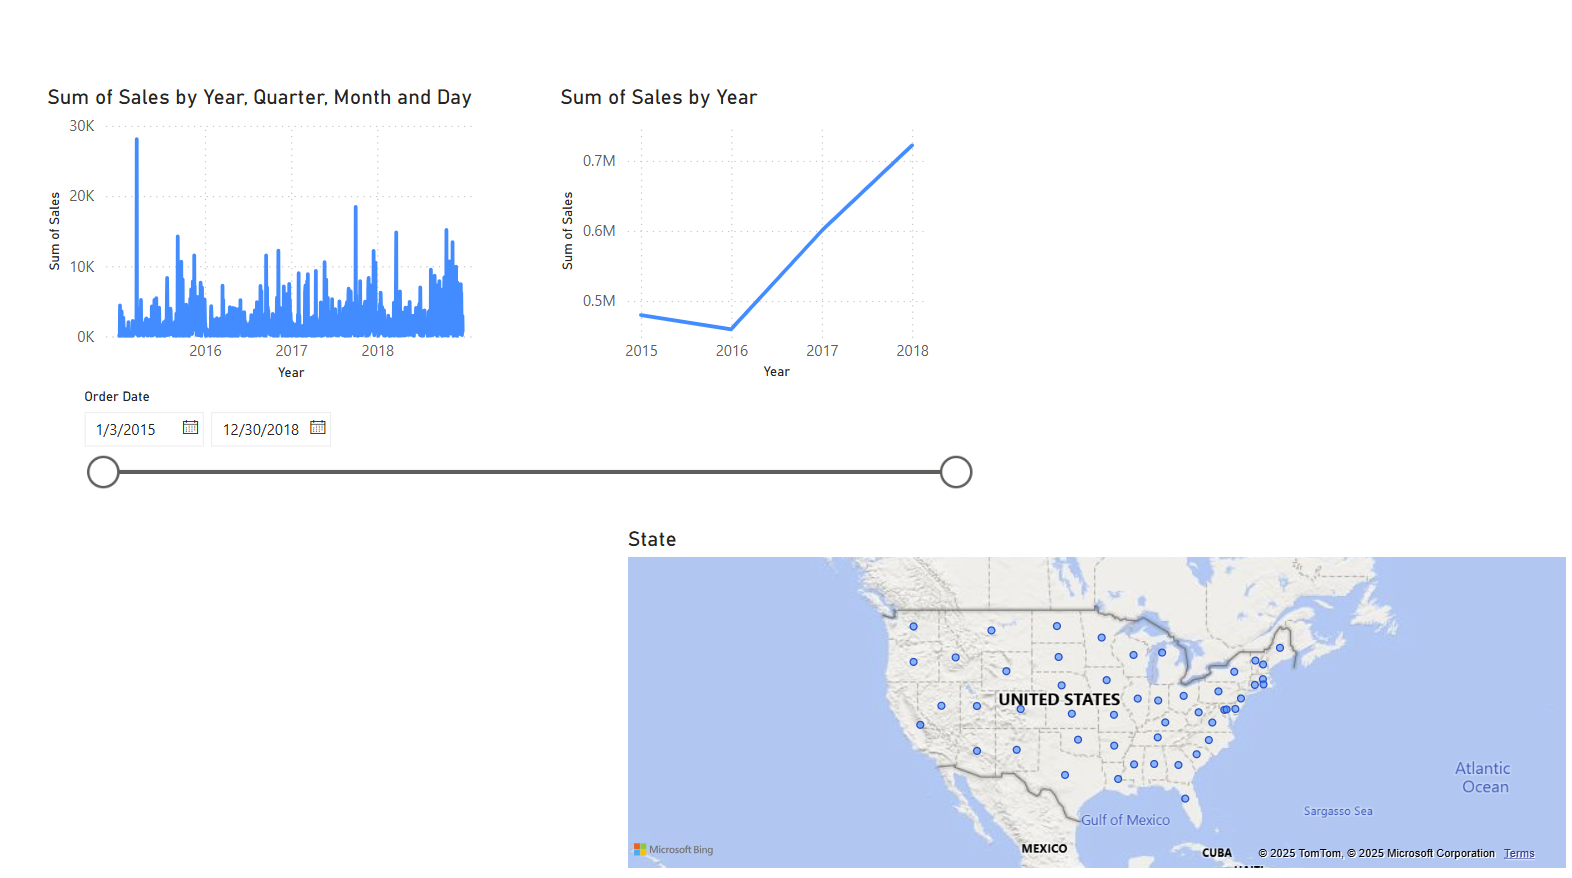

The page's visual inventory and layout, read from the dashboard file:
{"tool":"powerbi","page":{"name":"Page 1","canvas":[1280,720],"ordinal":0},"visuals":[{"type":"lineChart","fields":{"Y":["Sum(sales_dashboard_data.Sales)"],"Category":["sales_dashboard_data.Order Date.Variation.Date Hierarchy.Year","sales_dashboard_data.Order Date.Variation.Date Hierarchy.Quarter","sales_dashboard_data.Order Date.Variation.Date Hierarchy.Month","sales_dashboard_data.Order Date.Variation.Date Hierarchy.Day"]},"box":[45.4,80,353.4,240],"z":0},{"type":"lineChart","fields":{"Category":["sales_dashboard_data.Order Date.Variation.Date Hierarchy.Year","sales_dashboard_data.Order Date.Variation.Date Hierarchy.Quarter","sales_dashboard_data.Order Date.Variation.Date Hierarchy.Month","sales_dashboard_data.Order Date.Variation.Date Hierarchy.Day"],"Y":["Sum(sales_dashboard_data.Sales)"]},"box":[453.7,80,303.3,240],"z":1},{"type":"slicer","fields":{"Values":["sales_dashboard_data.Order Date"]},"box":[66.9,317.6,728.4,86],"z":2},{"type":"map","fields":{"Category":["sales_dashboard_data.State"]},"box":[507.5,432.2,757,277],"z":3}]}

Visuals, with their boxes in screenshot pixels (x1, y1, x2, y2), scaled from the page's 1280x720 canvas onto the 1572x878 screenshot:
lineChart - Sum(sales_dashboard_data.Sales) x sales_dashboard_data.Order Date.Variation.Date Hierarchy.Year: left=56, top=98, right=490, bottom=390
lineChart - sales_dashboard_data.Order Date.Variation.Date Hierarchy.Year x sales_dashboard_data.Order Date.Variation.Date Hierarchy.Quarter: left=557, top=98, right=930, bottom=390
slicer - sales_dashboard_data.Order Date: left=82, top=387, right=977, bottom=492
map - sales_dashboard_data.State: left=623, top=527, right=1553, bottom=865
